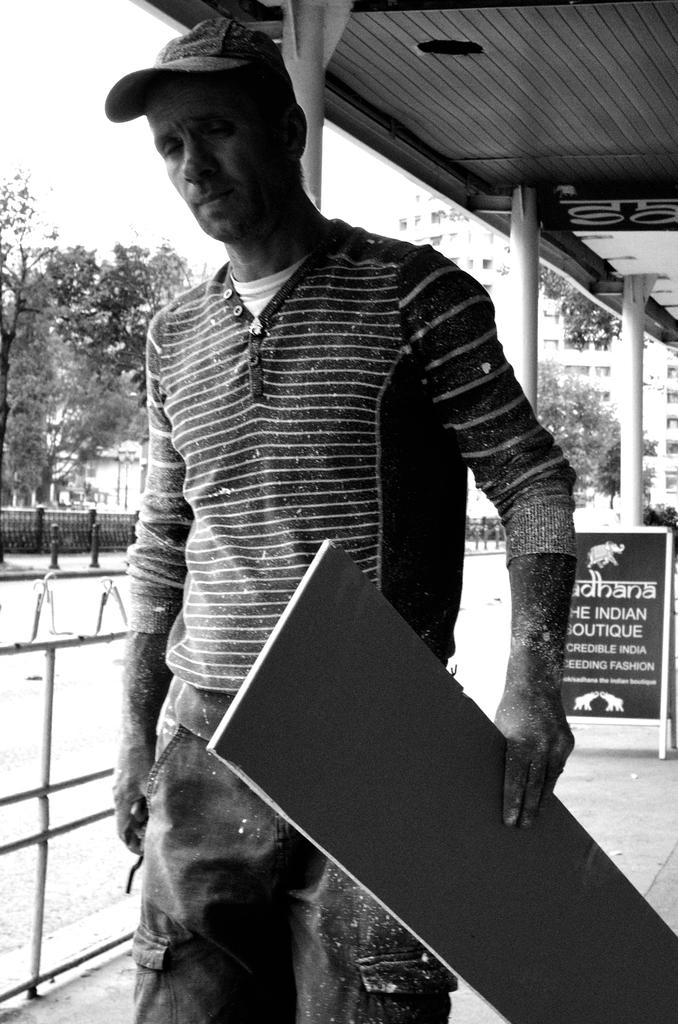Hat: (102, 14, 284, 122)
